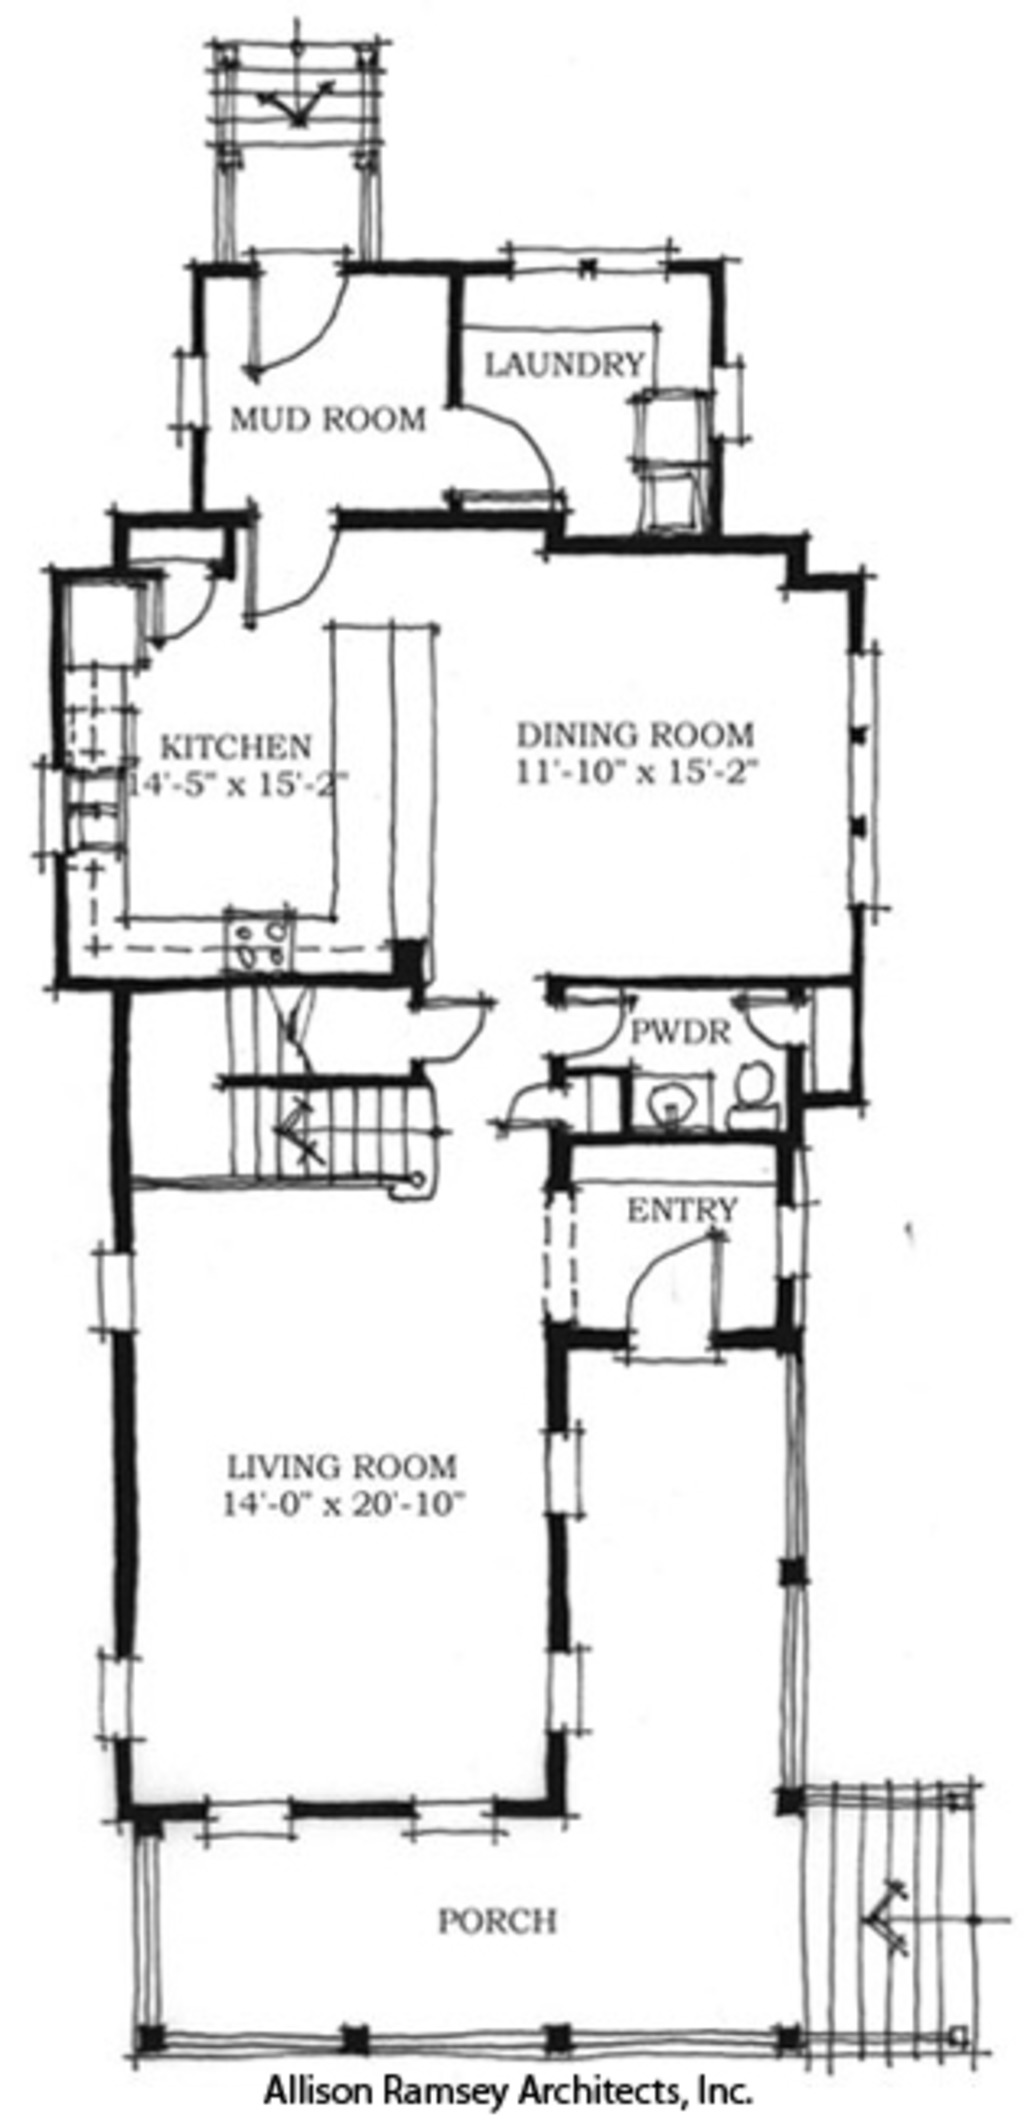door: (238, 257, 349, 387), (239, 502, 360, 618), (620, 1232, 722, 1366), (133, 567, 229, 652)
stairs: (208, 973, 440, 1211), (791, 1777, 981, 2055), (225, 30, 371, 189)
